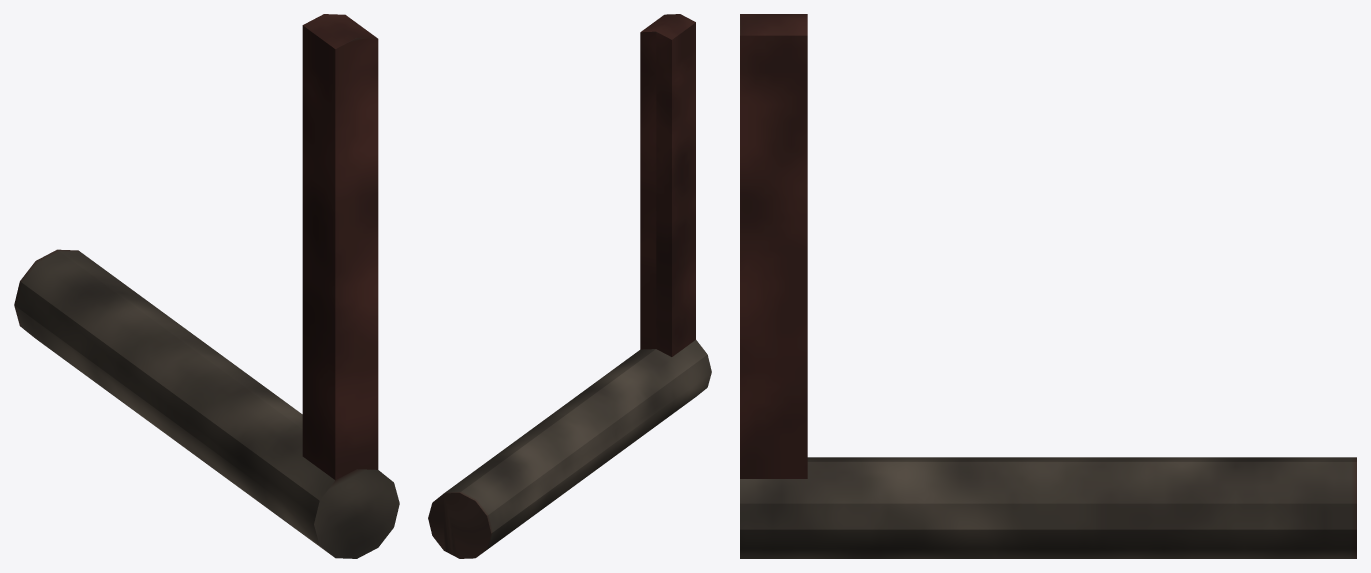
Rendered from MESH_MANIVELADIRECAO_PROP.fbx.
The picture shows the model from 3 angles, left to right: view 1: azimuth 30°, elevation 25°; view 2: azimuth 150°, elevation 25°; view 3: azimuth 270°, elevation 25°; orthographic projection. The views are drawn at different scales.
Visible parts, largest first — view 1: MESH_MANIVELA_PROP; view 2: MESH_MANIVELA_PROP; view 3: MESH_MANIVELA_PROP.
Part boxes in pixels (<box>): MESH_MANIVELA_PROP: <box>14,14,399,558</box>; MESH_MANIVELA_PROP: <box>428,14,711,558</box>; MESH_MANIVELA_PROP: <box>740,14,1356,558</box>.
Bounding box in the file's own units: 0.0162 × 0.0941 × 0.0981.
